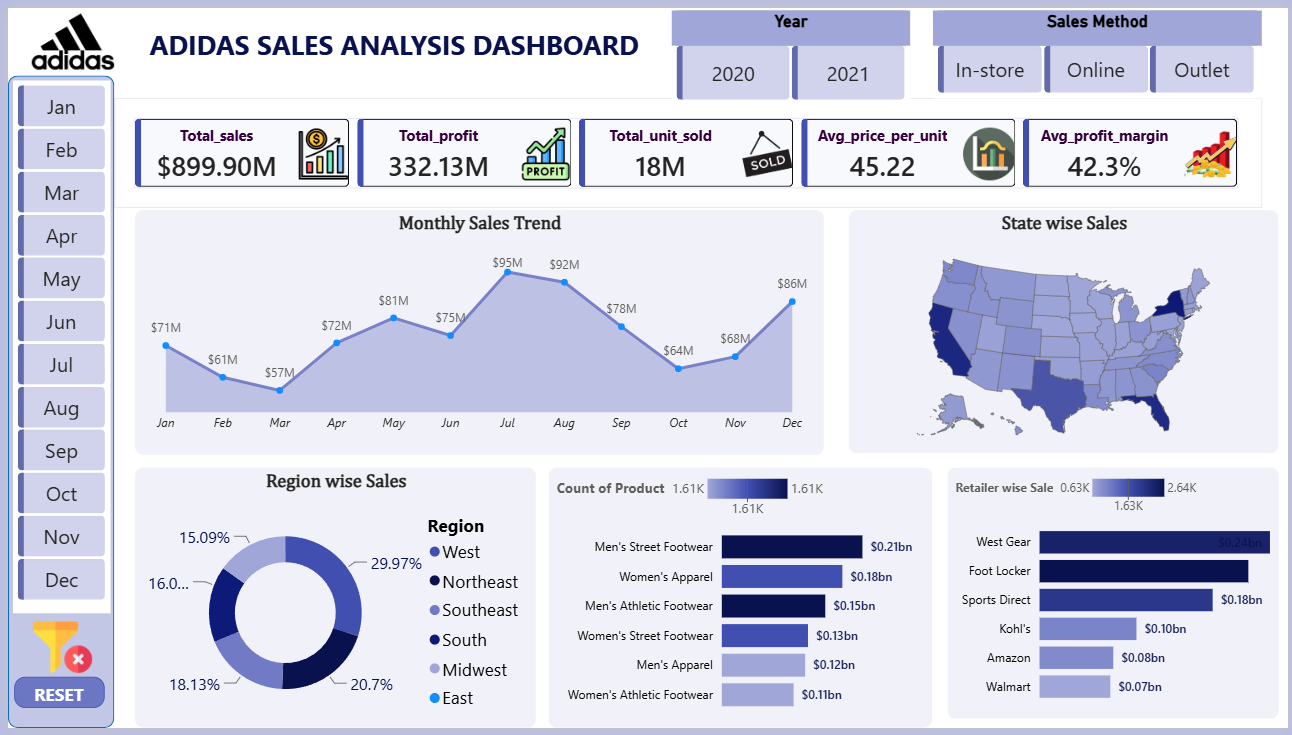

Layout of this report page (visuals, bound fields, positions):
{"tool":"powerbi","page":{"name":"Page 1","canvas":[1280,720],"ordinal":0},"visuals":[{"type":"cardVisual","fields":{"Data":["Data Sales Adidas.Total_sales","Data Sales Adidas.Total_profit","Data Sales Adidas.Total_unit_sold","Data Sales Adidas.Avg_sales_per_unit","Data Sales Adidas.Avg_profit_margin"]},"box":[106.2,90,1147.5,110],"z":0},{"type":"image","box":[23.8,0,82.5,67.5],"z":1000},{"type":"textbox","box":[107.1,14.3,557.1,58.6],"z":2000},{"type":"shape","box":[0,67.5,106.2,652.5],"z":3000},{"type":"areaChart","title":"Monthly Sales Trend","fields":{"Category":["Data Sales Adidas.Month"],"Y":["Data Sales Adidas.Total_sales"]},"box":[126.2,201.2,690,246.2],"z":4000},{"type":"shapeMap","title":"State wise Sales","fields":{"Category":["Data Sales Adidas.State"],"Value":["Data Sales Adidas.Total_sales"]},"box":[840,201.2,431.2,245],"z":5000},{"type":"donutChart","title":"Region wise Sales","fields":{"Category":["Data Sales Adidas.Region"],"Y":["Data Sales Adidas.Total_sales"]},"box":[126.2,458.8,402.5,261.2],"z":6000},{"type":"clusteredBarChart","title":"Product wise Sales","fields":{"Category":["Data Sales Adidas.Product"],"Y":["Data Sales Adidas.Total_sales"]},"box":[540,458.8,385,261.2],"z":7000},{"type":"clusteredBarChart","fields":{"Y":["Data Sales Adidas.Total_sales"],"Category":["Data Sales Adidas.Retailer"]},"box":[938.8,458.8,332.5,252.5],"z":8000},{"type":"advancedSlicerVisual","fields":{"Values":["Data Sales Adidas.Sales Method"]},"box":[925,2.5,328.9,87.8],"z":9000},{"type":"advancedSlicerVisual","fields":{"Values":["Data Sales Adidas.Invoice Date.Variation.Date Hierarchy.Year"]},"box":[663.8,2.5,238.8,95],"z":10000},{"type":"advancedSlicerVisual","fields":{"Values":["Data Sales Adidas.Month"]},"box":[5,72.5,97.5,532.5],"z":11000},{"type":"image","box":[13.8,610,81.2,58.8],"z":12000},{"type":"actionButton","box":[0,680,106.2,31.2],"z":13000}]}

Visuals, with their boxes in screenshot pixels (x1, y1, x2, y2), scaled from the page's 1280x720 canvas onto the 1292x735 screenshot:
cardVisual - Data Sales Adidas.Total_sales x Data Sales Adidas.Total_profit: bbox(107, 92, 1265, 204)
image: bbox(24, 0, 107, 69)
textbox: bbox(108, 15, 670, 74)
shape: bbox(0, 69, 107, 734)
"Monthly Sales Trend" areaChart: bbox(127, 205, 824, 457)
"State wise Sales" shapeMap: bbox(848, 205, 1283, 455)
"Region wise Sales" donutChart: bbox(127, 468, 534, 734)
"Product wise Sales" clusteredBarChart: bbox(545, 468, 934, 734)
clusteredBarChart - Data Sales Adidas.Total_sales x Data Sales Adidas.Retailer: bbox(948, 468, 1283, 726)
advancedSlicerVisual - Data Sales Adidas.Sales Method: bbox(934, 3, 1266, 92)
advancedSlicerVisual - Data Sales Adidas.Invoice Date.Variation.Date Hierarchy.Year: bbox(670, 3, 911, 100)
advancedSlicerVisual - Data Sales Adidas.Month: bbox(5, 74, 103, 618)
image: bbox(14, 623, 96, 683)
actionButton: bbox(0, 694, 107, 726)
